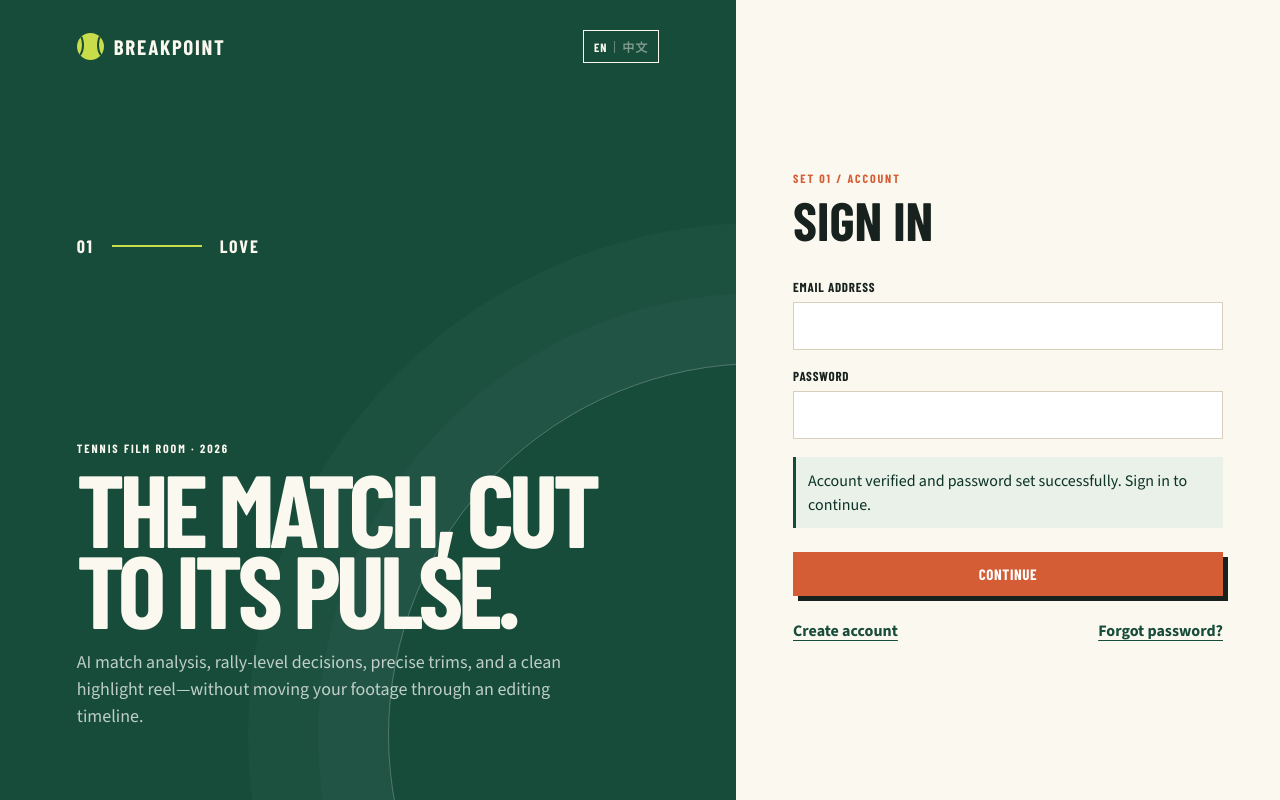
AuthForm password confirmation › renders a localized one-time login notice and clears it from the URL
This screenshot has width=1280, height=800.
Expected: the text "Account verified and password set successfully. Sign in to continue." is shown, [793,457,1223,528]
Click the button with aria-label "切换到中文" at (621, 46), box [583,30,659,63]
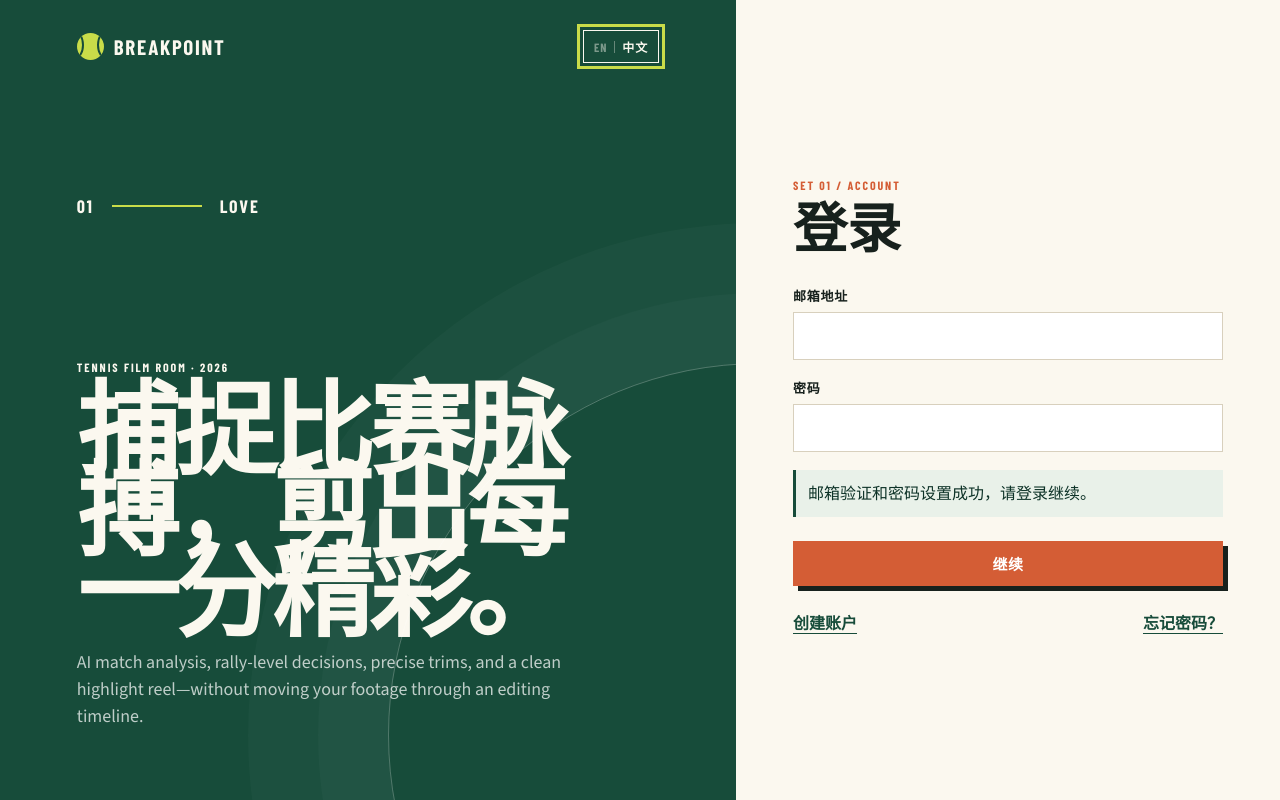
Now the text "邮箱验证和密码设置成功，请登录继续。" is shown, box [793,470,1223,517]
